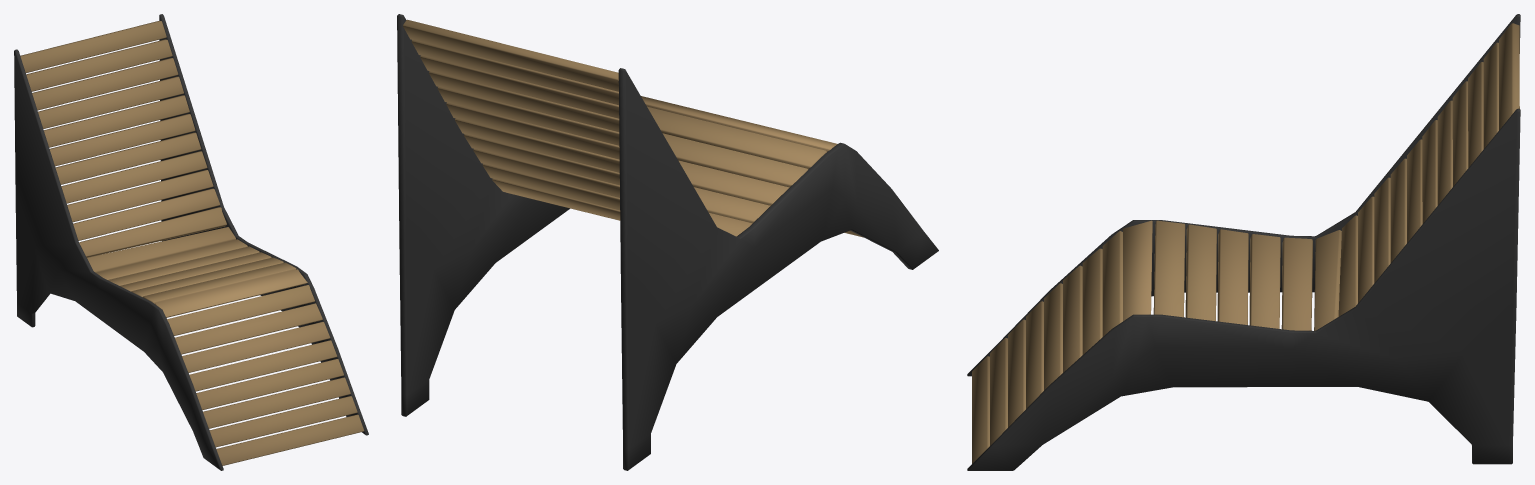
File: Leshak.fbx
The picture shows the model from 3 angles, left to right: view 1: azimuth 30°, elevation 25°; view 2: azimuth 150°, elevation 25°; view 3: azimuth 270°, elevation 25°; orthographic projection. The views are drawn at different scales.
Parts seen in each view (by area): view 1: Lezak; view 2: Lezak; view 3: Lezak.
Part boxes in pixels (bbox=[...]): Lezak: bbox=[14, 14, 368, 470]; Lezak: bbox=[397, 14, 938, 470]; Lezak: bbox=[967, 14, 1520, 470].
Size of the model in its own units: 1.55 by 3.74 by 2.69.
